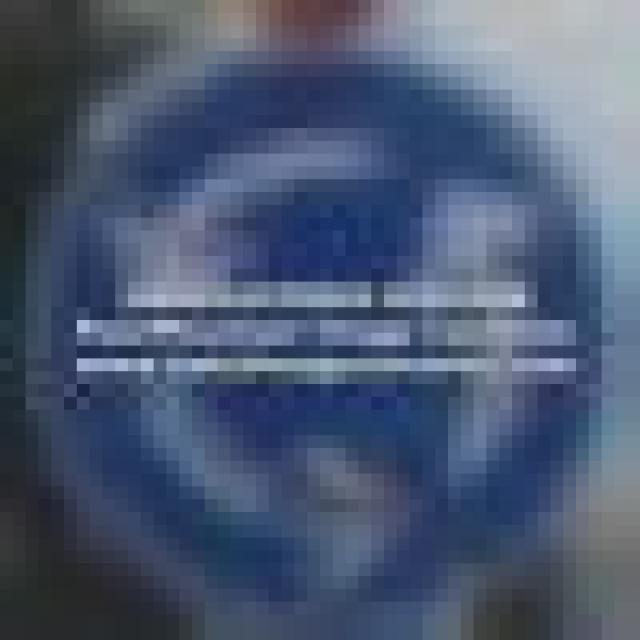ROUNDABOUT: (0, 26, 602, 614)
